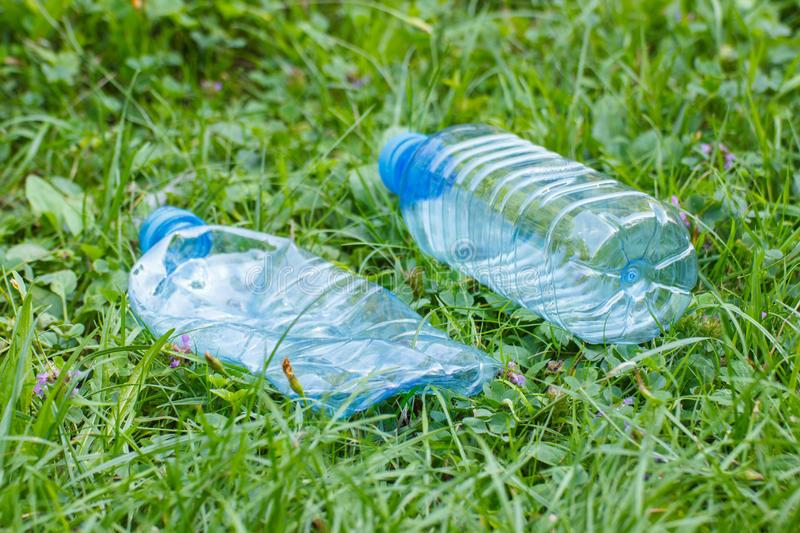bottle: (364, 101, 709, 362), (116, 200, 523, 395)
